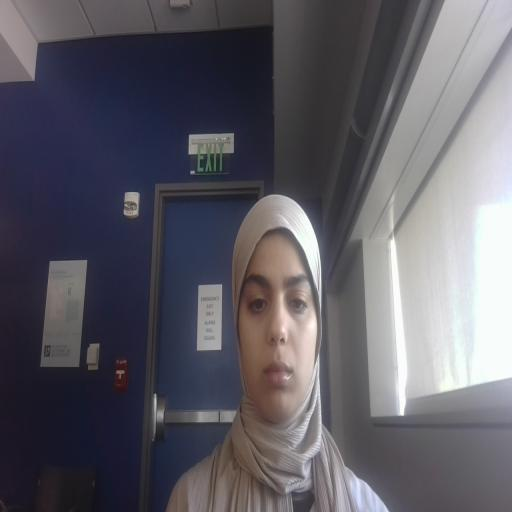lookingdownatphone: (231, 240, 361, 455)
